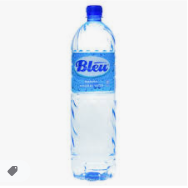Bottle: (71, 5, 117, 180)
